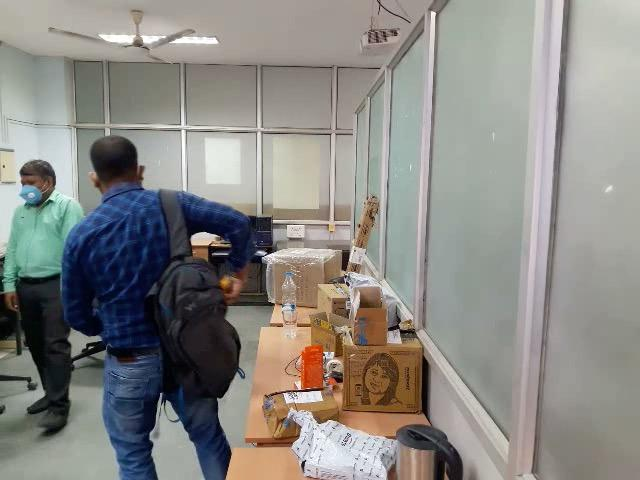shoplifting: (50, 169, 269, 441)
